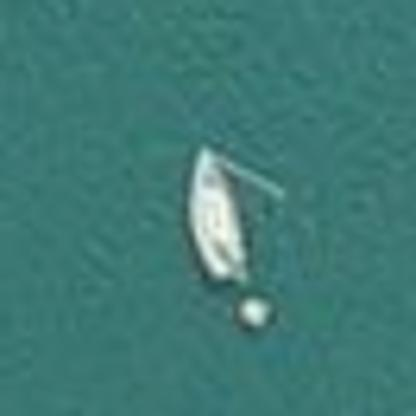ship: (170, 132, 300, 339)
